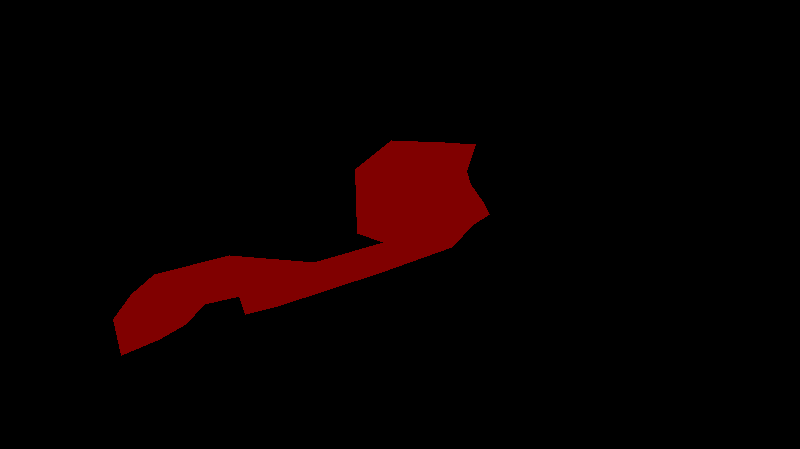fire: (113, 140, 489, 355)
